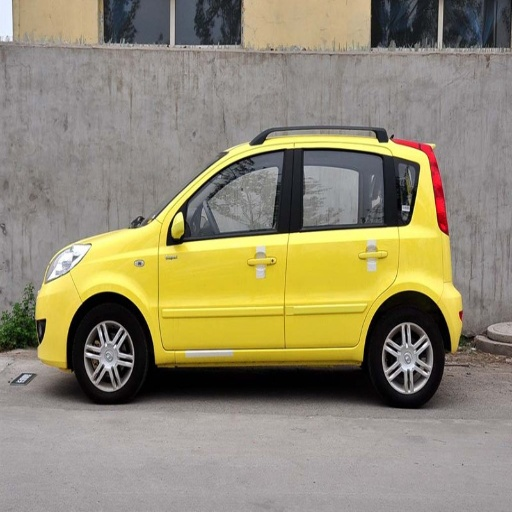back_left_door: (286, 143, 397, 347)
front_left_door: (159, 144, 293, 348)
